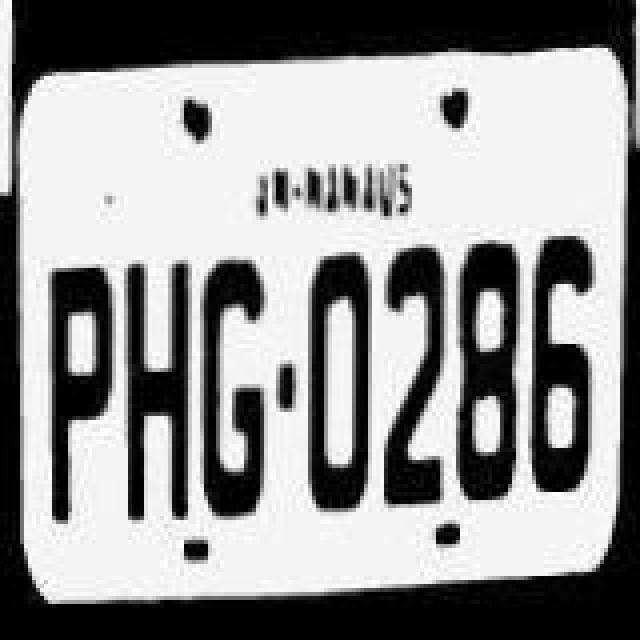2: (378, 244, 450, 512)
6: (528, 214, 596, 498)
8: (456, 236, 524, 504)
G: (198, 246, 270, 518)
H: (118, 248, 198, 520)
O: (304, 250, 372, 514)
P: (38, 260, 118, 524)
